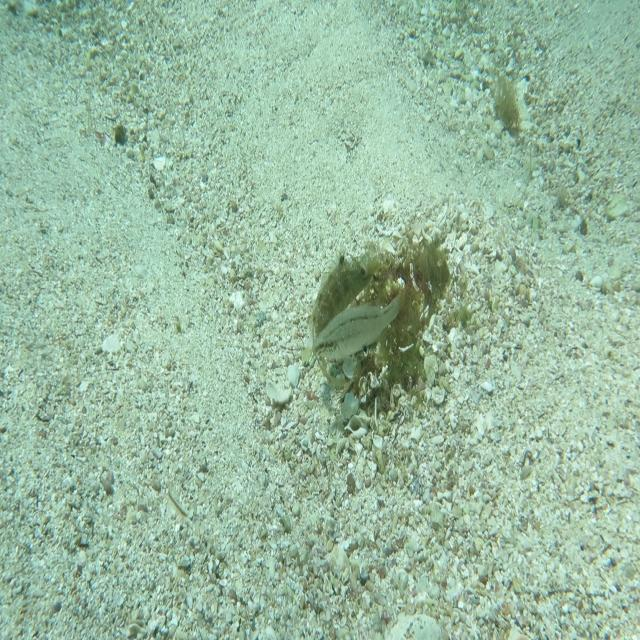DAN_CIRC: (307, 244, 381, 390)
female: (313, 282, 413, 364)
nest: (327, 199, 457, 417)
